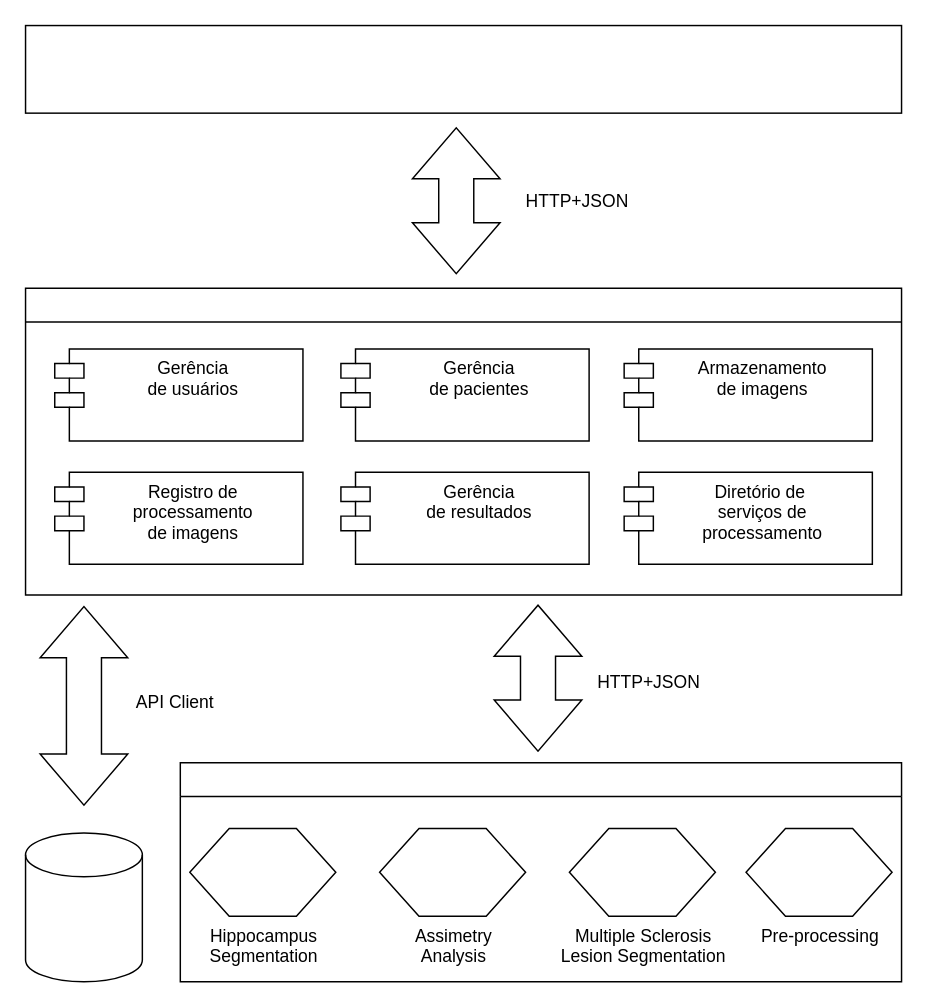
Some shapes in this 927 by 1007 pixel diagram are drawn without their labels. Here are the shapes that lost their labels. From the top down, the box of each, then its label:
(24, 24, 902, 113): Front-end (SPA)
(24, 287, 902, 595): Camada de aplicação
(179, 761, 902, 982): Camada de processamento de imagens
(24, 831, 142, 982): DB server
